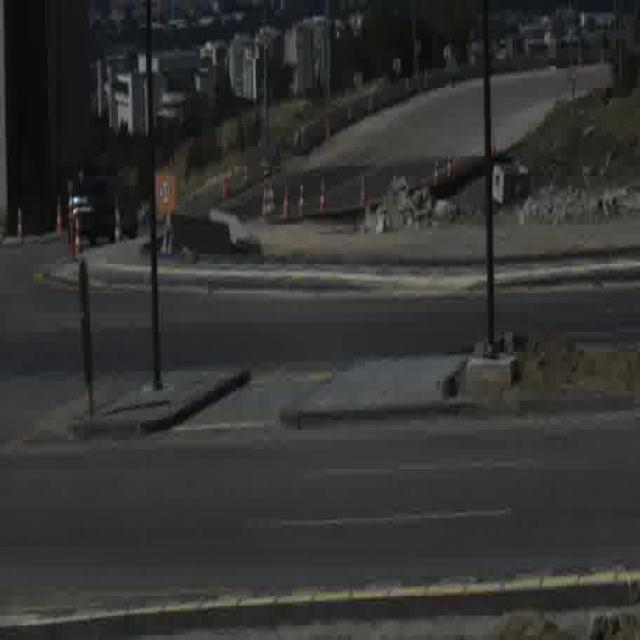Car: (68, 176, 136, 245)
